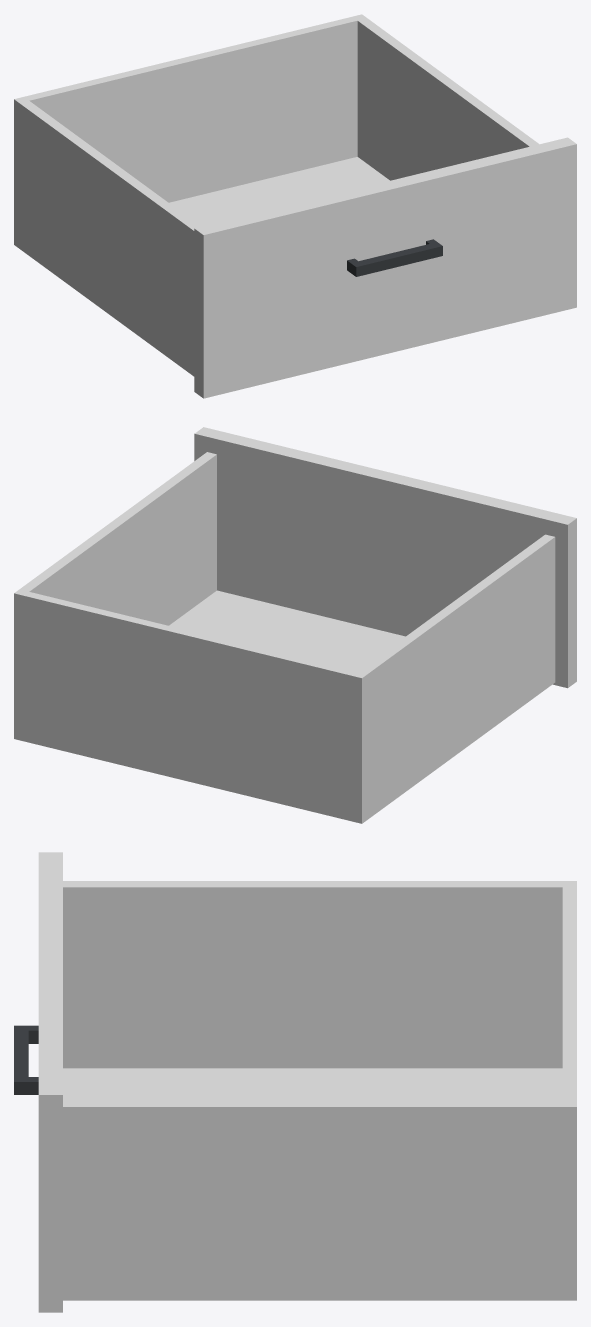
The model's file is Door1_C1_05.fbx.
3 views of the same model, one above another, from view 1: azimuth 30°, elevation 25°; view 2: azimuth 150°, elevation 25°; view 3: azimuth 270°, elevation 25° (orthographic). The views are drawn at different scales.
Parts seen in each view (by area): view 1: Door1_C1_05; view 2: Door1_C1_05; view 3: Door1_C1_05.
Boxes of the visible parts, box(x1,y1,x2,y2) form: Door1_C1_05: box(14, 14, 576, 398); Door1_C1_05: box(14, 427, 576, 823); Door1_C1_05: box(14, 852, 576, 1312).
Size of the model in its own units: 59 by 24.68 by 57.89.
